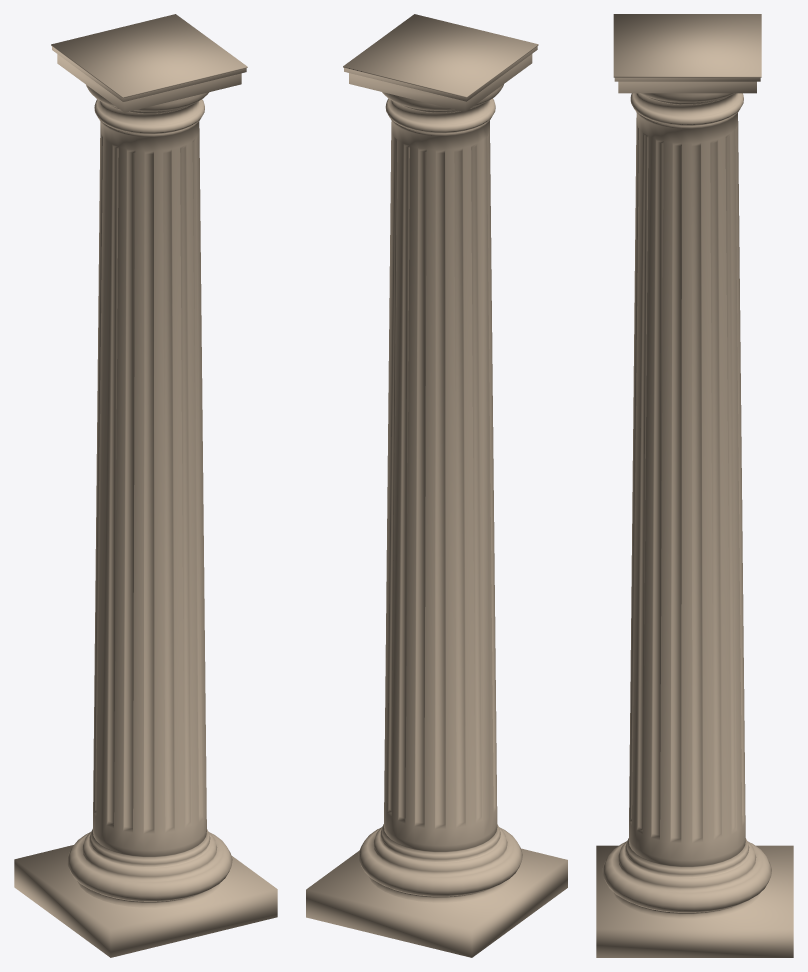
3 renders of one model, left to right at view 1: azimuth 30°, elevation 25°; view 2: azimuth 150°, elevation 25°; view 3: azimuth 270°, elevation 25°, orthographic. The views are drawn at different scales.
Visible parts, largest first — view 1: columna; view 2: columna; view 3: columna.
Boxes of the visible parts, box(x1,y1,x2,y2) form: columna: box(14, 14, 277, 957); columna: box(306, 14, 567, 957); columna: box(596, 14, 793, 957).
Bounding box in the file's own units: 16.7 × 81.23 × 16.7.
